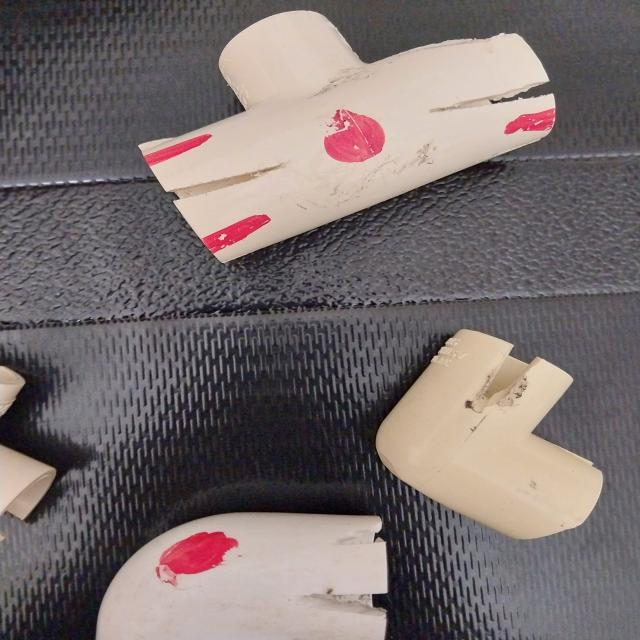Defective: (207, 79, 512, 195), (424, 97, 559, 135), (164, 165, 288, 200), (298, 582, 389, 626), (473, 354, 532, 415), (324, 114, 386, 164), (158, 540, 236, 576), (204, 220, 272, 251), (329, 518, 384, 550), (2, 374, 30, 422), (144, 142, 208, 162), (498, 116, 551, 136)
L Joint: (106, 510, 398, 634), (1, 366, 60, 536)
T Joint: (159, 4, 570, 240), (380, 337, 604, 543), (263, 87, 446, 184)
